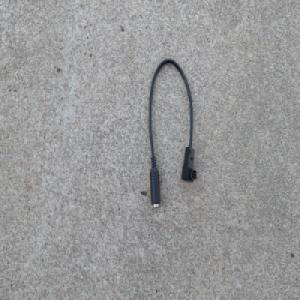Wire: (145, 58, 196, 210)
